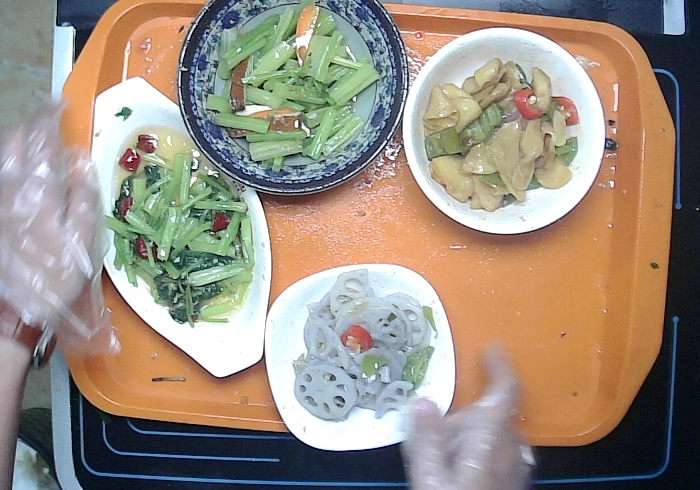ZNLD-Qing_Hua_Wan: (174, 1, 412, 200)
ZNLD-Si_Fang_Wan: (261, 260, 460, 454)
ZNLD-Tang_Wan: (397, 25, 610, 239)
ZNLD-Yu_Pan: (88, 73, 277, 380)
